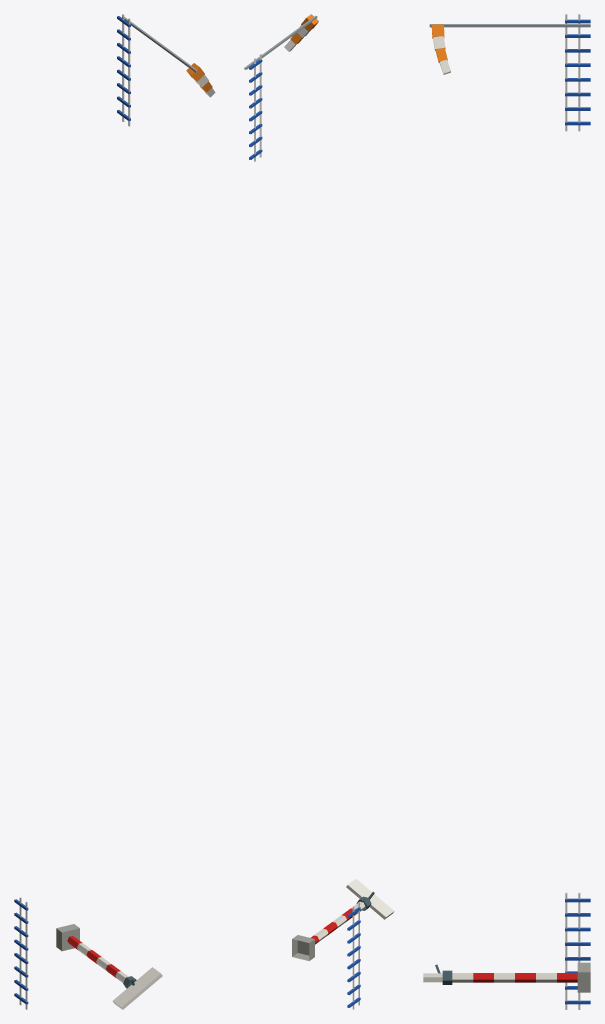
The model's file is frame_1.glb.
3 renders of one model, left to right at view 1: azimuth 30°, elevation 25°; view 2: azimuth 150°, elevation 25°; view 3: azimuth 270°, elevation 25°, orthographic. The views are drawn at different scales.
Parts seen in each view (by area): view 1: t0_0_g52.001, t1_8_g73.001; view 2: t0_0_g52.001, t1_8_g73.001; view 3: t0_0_g52.001, t1_8_g73.001.
Boxes of the visible parts, x1,y1,x2,y2 form: t0_0_g52.001: [14, 897, 162, 1009]; t1_8_g73.001: [117, 14, 215, 126]; t0_0_g52.001: [292, 879, 394, 1009]; t1_8_g73.001: [244, 14, 318, 161]; t0_0_g52.001: [423, 892, 590, 1009]; t1_8_g73.001: [429, 14, 590, 131].
Bounding box in the file's own units: 20.85 × 144 × 20.8.
